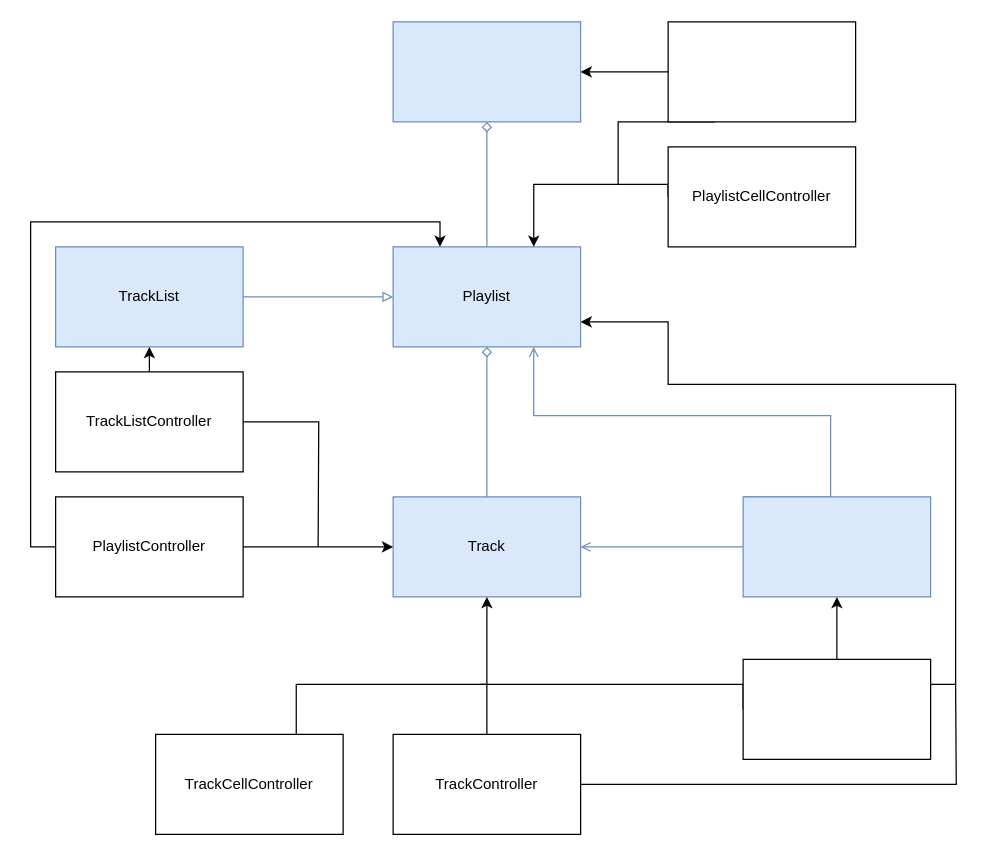
The diagram is 988 pixels wide and 856 high, and some of its shapes have lost their labels. The shapes that lost their labels are listed below. From the top down, each one's box as (x1, y1, x2, y2) in pixels, then its label:
(392, 21, 581, 122): PlaylistList
(667, 21, 856, 122): PlaylistListController
(742, 496, 931, 597): Player
(742, 658, 931, 759): PlayerController
